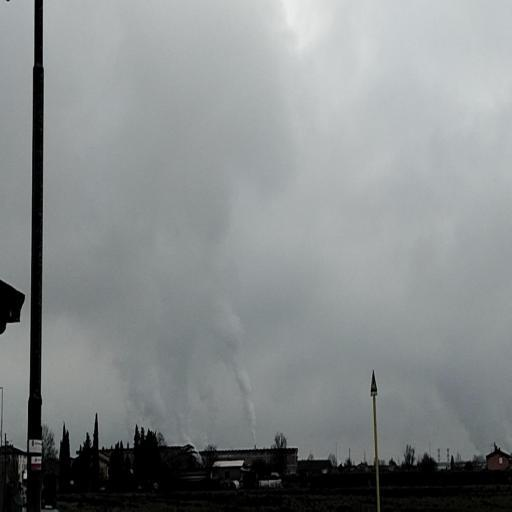leakage: (106, 242, 261, 471)
